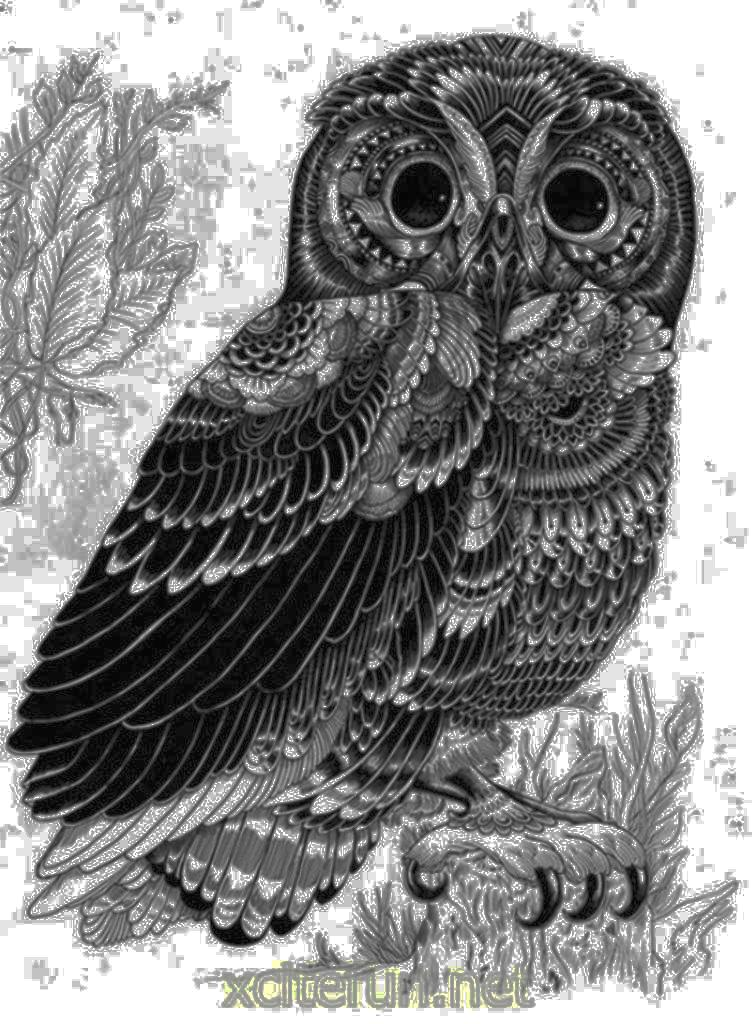Owl: (4, 26, 701, 951)
